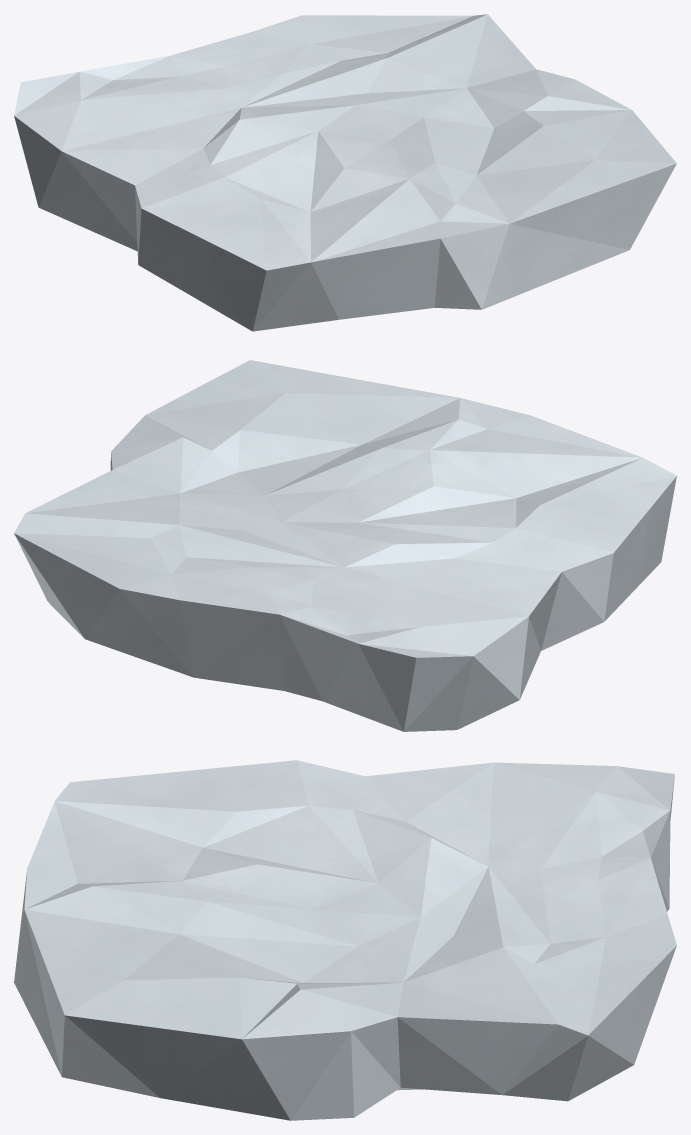
The model's file is Cloud.fbx.
The picture shows the model from 3 angles, top to bottom: view 1: azimuth 30°, elevation 25°; view 2: azimuth 150°, elevation 25°; view 3: azimuth 270°, elevation 25°; orthographic projection. The views are drawn at different scales.
Visible parts, largest first — view 1: Plane; view 2: Plane; view 3: Plane.
Part boxes in pixels (x1,y1,x2,y2): Plane: (14, 14, 676, 331); Plane: (14, 360, 676, 731); Plane: (14, 760, 676, 1120).
Size of the model in its own units: 3.96 by 0.9119 by 3.9.
